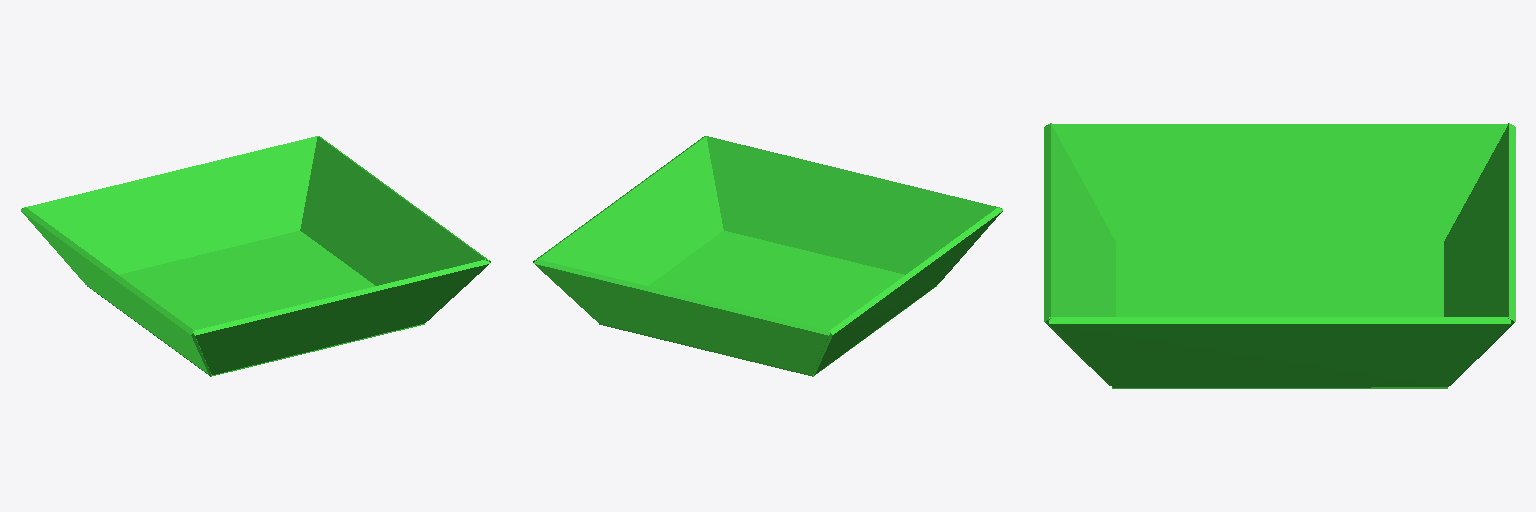
The robot description file, URDF, robot "tabletop":
<robot name="tabletop">
  <link name="base_link">
    <inertial>
      <origin rpy="0 0 0" xyz="0 0 0"/>
      <mass value="0"/>
      <inertia ixx="0" ixy="0" ixz="0" iyy="0" iyz="0" izz="0"/>
    </inertial>
    <visual>
      <origin rpy="0 0 0" xyz="0 0 0"/>
      <geometry>
        <mesh filename="tray_textured.obj" scale="0.5 0.5 0.5"/>
      </geometry>
      <material name="tray_material">
        <color rgba="0.3 0.9 0.3 1"/>
      </material>
    </visual>
     <collision>
      <origin rpy="0 0 0" xyz="0 0 0.005"/>
      <geometry>
	 			<box size=".6 .6 .02"/>
      </geometry>
    </collision>
     <collision>
      <origin rpy="0 0.575469961 0" xyz="0.25 0 0.059"/>
      <geometry>
	 			<box size=".02 .6 .15"/>
      </geometry>
    </collision>
		<collision>
      <origin rpy="0 -0.575469961 0" xyz="-0.25 0 0.059"/>
      <geometry>
	 			<box size=".02 .6 .15"/>
      </geometry>
    </collision>
    <collision>
      <origin rpy="0.575469961 0 0" xyz="0 -0.25 0.059"/>
      <geometry>
	 			<box size=".6 .02 .15"/>
      </geometry>
    </collision>
    <collision>
      <origin rpy="-0.575469961 0 0" xyz="0 0.25 0.059"/>
      <geometry>
	 			<box size=".6 .02 .15"/>
      </geometry>
    </collision>

  </link>
</robot>

--- Render facts (derived) ---
Views: 3 orthographic renders of the robot side by side, from view 1: azimuth 30°, elevation 25°; view 2: azimuth 150°, elevation 25°; view 3: azimuth 270°, elevation 25°.
Model tabletop with 1 links and 0 joints (none), rooted at base_link, posed every joint at zero.
Links seen in each view (by area): view 1: base_link; view 2: base_link; view 3: base_link.
Link boxes in pixels (x1,y1,x2,y2): base_link: (21,136,490,376); base_link: (533,136,1002,376); base_link: (1044,123,1515,388).
Bounding box of the posed robot: 0.5901 × 0.5901 × 0.1356 m (x, y, z).
1 mesh visuals loaded from 1 distinct referenced files (1 OBJ).